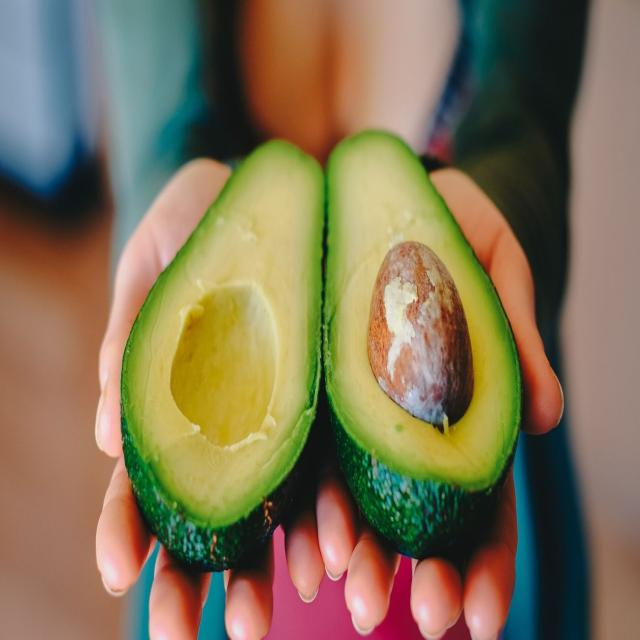aguacate: (116, 125, 523, 595)
